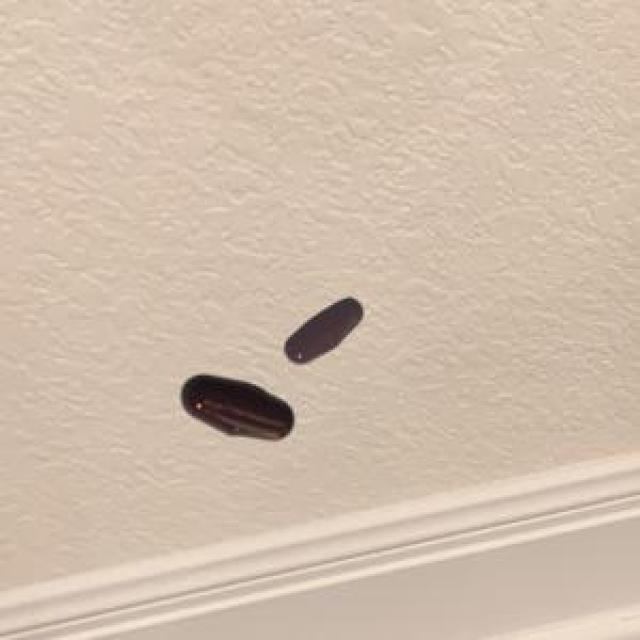DayZinc: (166, 366, 304, 493), (282, 282, 372, 370)
